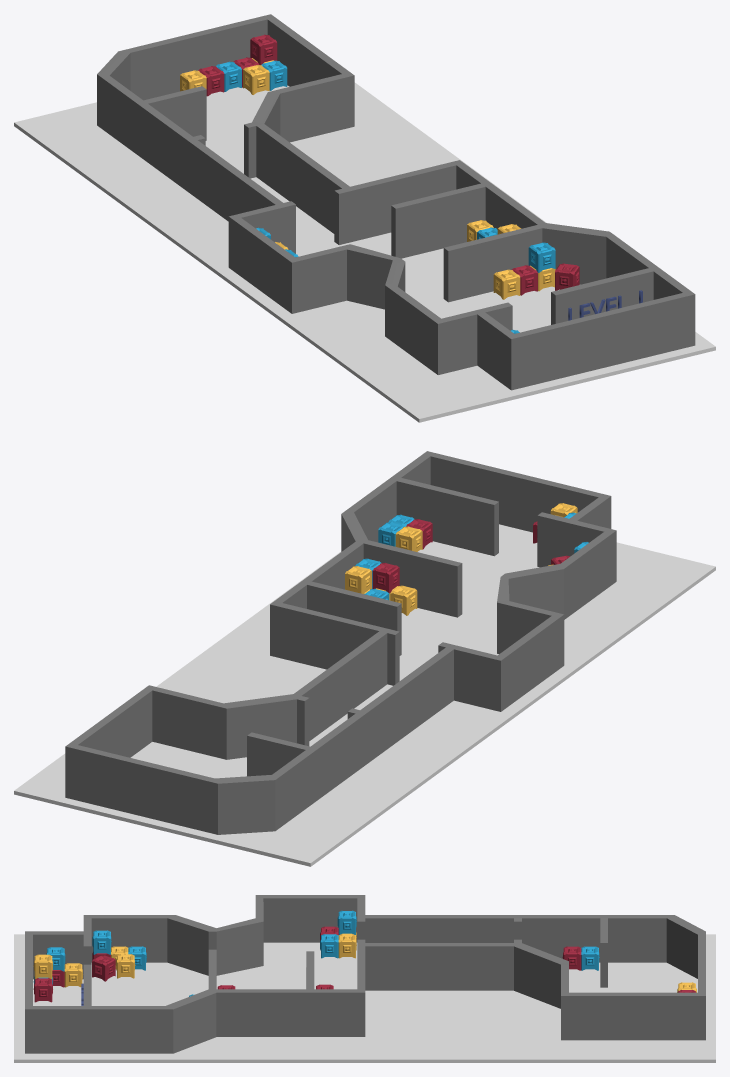
Rendered from level1.fbx.
3 views of the same model, one above another, from view 1: azimuth 30°, elevation 25°; view 2: azimuth 150°, elevation 25°; view 3: azimuth 270°, elevation 25° (orthographic). The views are drawn at different scales.
Parts seen in each view (by area): view 1: walls, ground, boxes; view 2: walls, ground, boxes; view 3: walls, ground, boxes.
Part boxes in pixels (x1,y1,x2,y2): walls: (97, 14, 695, 390); ground: (14, 82, 715, 422); boxes: (180, 34, 579, 333); walls: (65, 451, 616, 834); ground: (14, 524, 715, 866); boxes: (345, 503, 588, 615); walls: (25, 895, 705, 1053); ground: (14, 934, 715, 1062); boxes: (33, 910, 696, 1002).
Size of the model in its own units: 7579 by 1341 by 17928.
